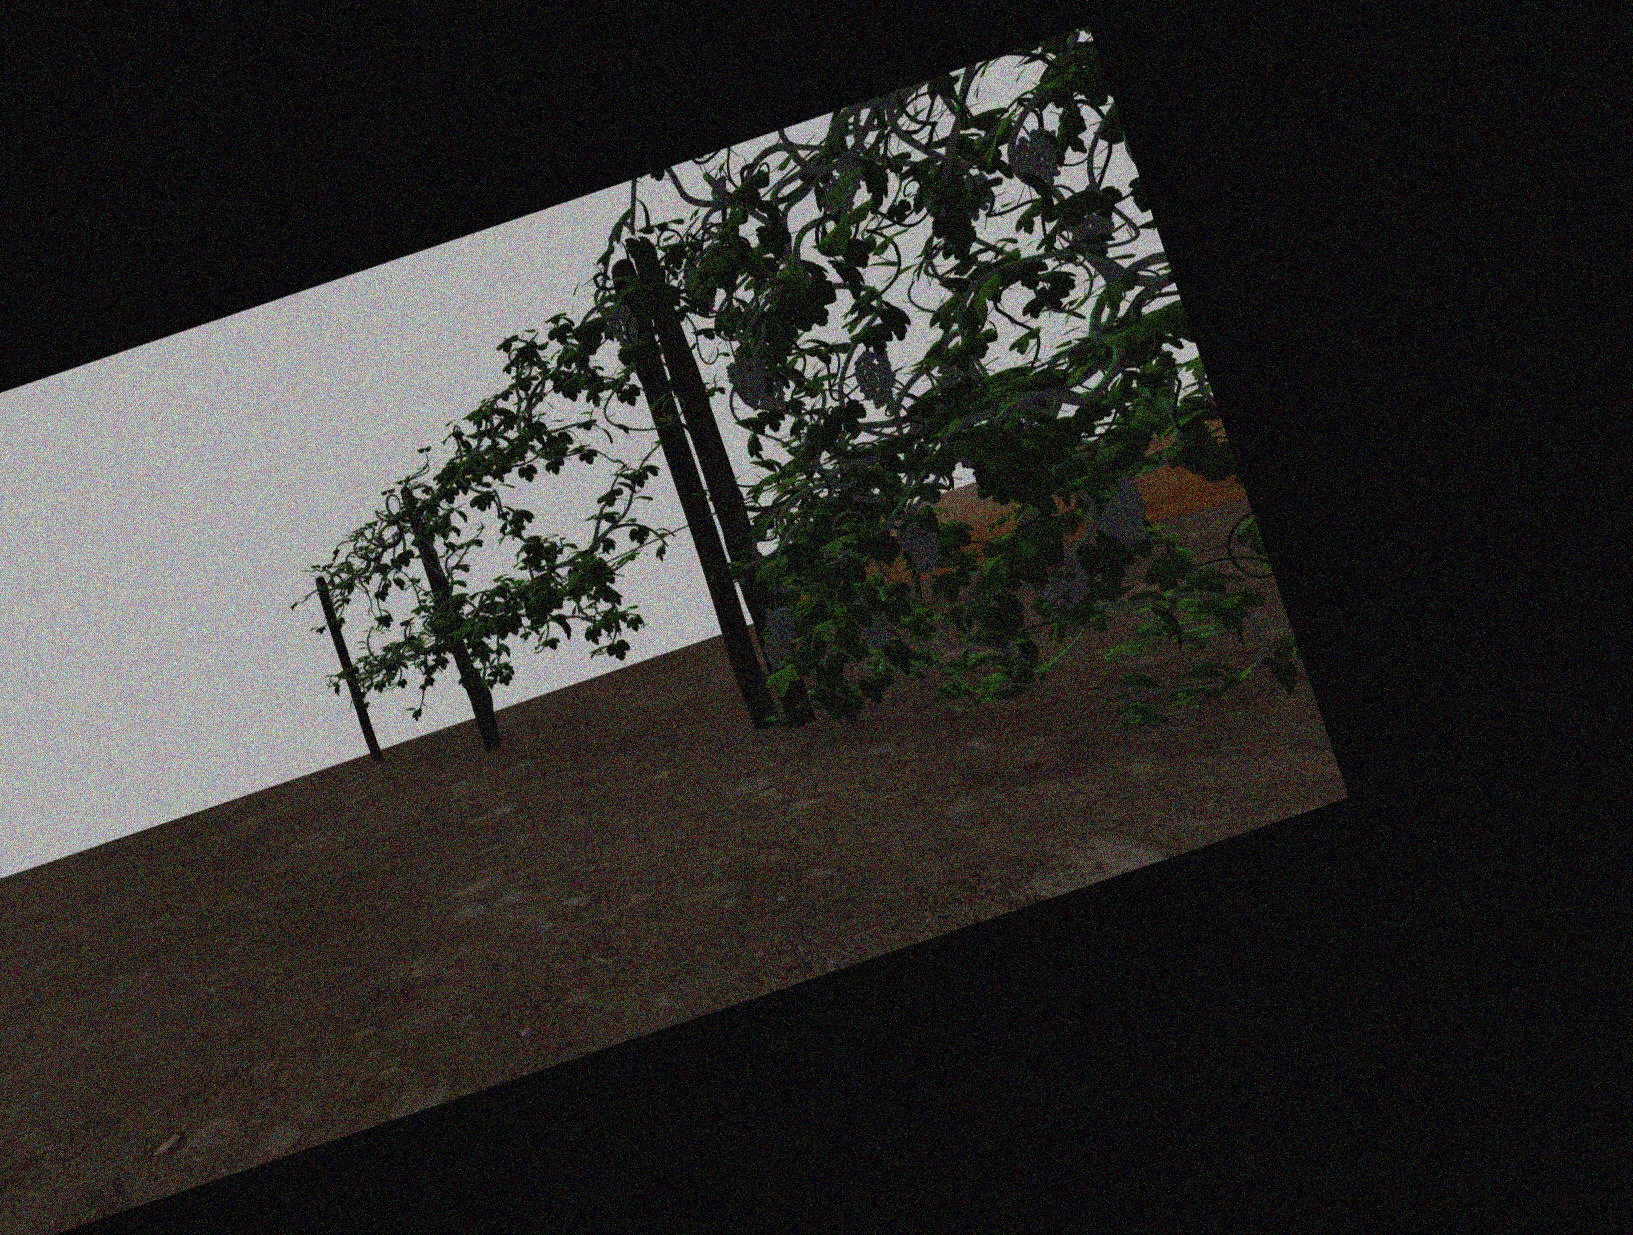grape: (1100, 483, 1148, 545), (1016, 130, 1061, 186), (856, 352, 896, 405), (729, 355, 768, 409), (905, 518, 940, 573), (1045, 573, 1090, 611), (610, 305, 639, 349), (767, 606, 795, 645), (863, 614, 892, 649), (767, 638, 793, 669)
